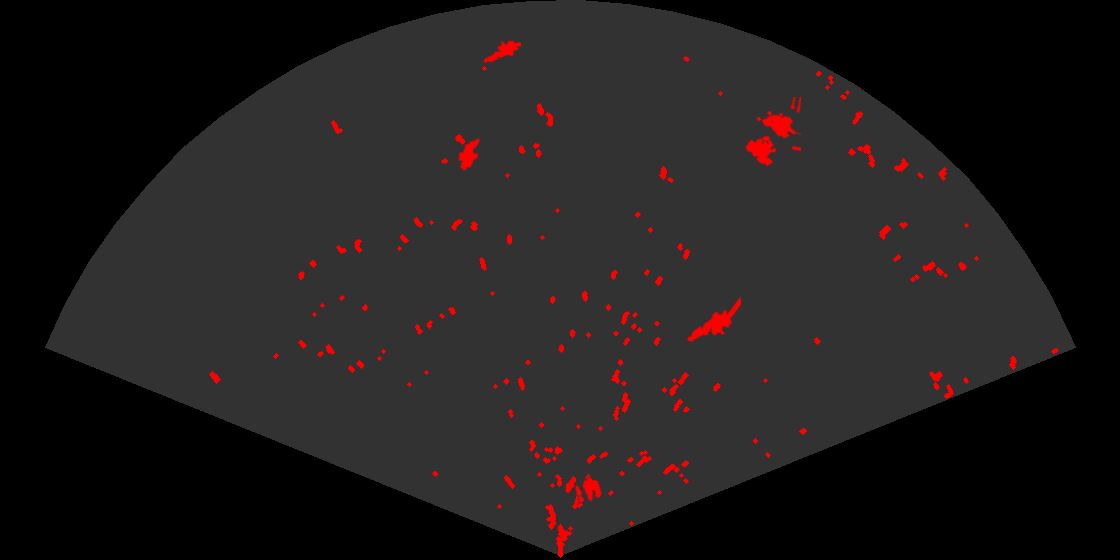AUV: (457, 137, 482, 172)
ball: (573, 476, 603, 504)
cage: (744, 97, 801, 168)
frogman: (684, 298, 741, 348), (481, 39, 521, 64)
